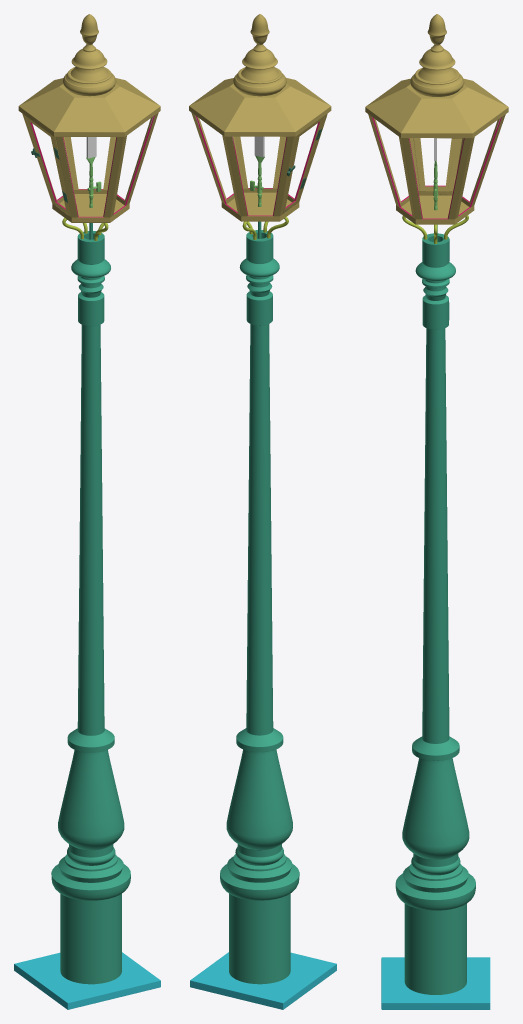
File: flashLight1.fbx
3 renders of one model, left to right at view 1: azimuth 30°, elevation 25°; view 2: azimuth 150°, elevation 25°; view 3: azimuth 270°, elevation 25°, orthographic.
Parts seen in each view (by area): view 1: Victorian Gas Street Light; view 2: Victorian Gas Street Light; view 3: Victorian Gas Street Light.
Part boxes in pixels (bbox=[...]): Victorian Gas Street Light: bbox=[14, 14, 160, 1009]; Victorian Gas Street Light: bbox=[189, 14, 336, 1009]; Victorian Gas Street Light: bbox=[365, 14, 508, 1009].
Bounding box in the file's own units: 36.5 × 315 × 42.07.
